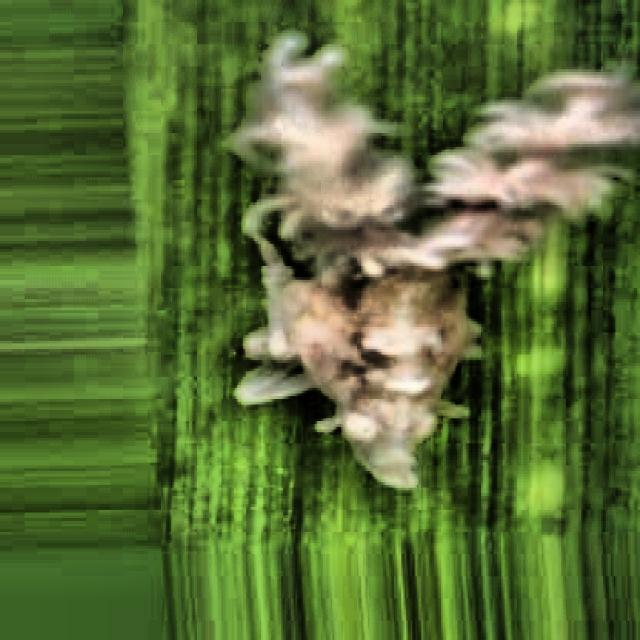Pyrilla-perpusilla: (157, 0, 640, 585)
